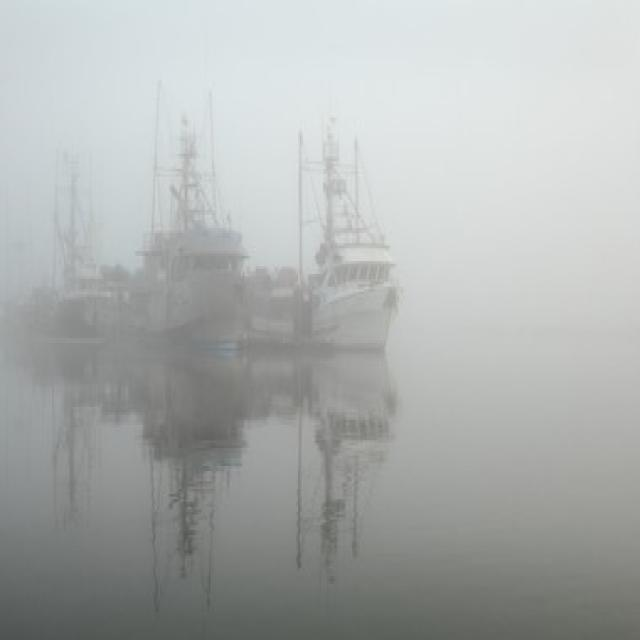fishing boat: (243, 110, 402, 346), (93, 108, 244, 351), (0, 125, 108, 343)
